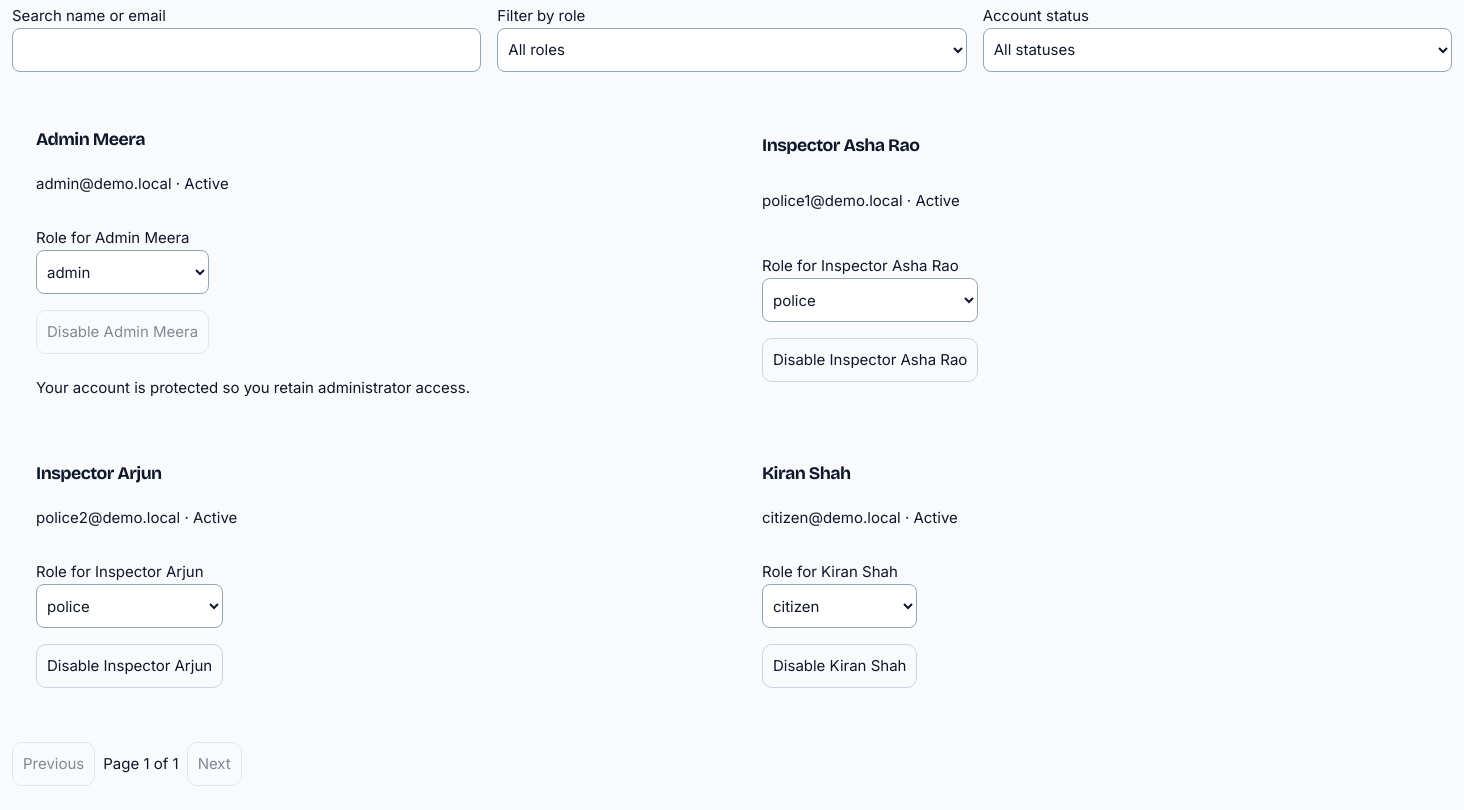
Test case: protects the signed-in administrator and reports a server conflict
(page scrolled)
Expected: the dropdown labelled "Role for Admin Meera" is disabled, [36,250,209,294]
Expected: the button "Disable Admin Meera" is disabled, [36,310,209,354]
Click the button "Disable Inspector Arjun": click(130, 666) [36,644,223,688]
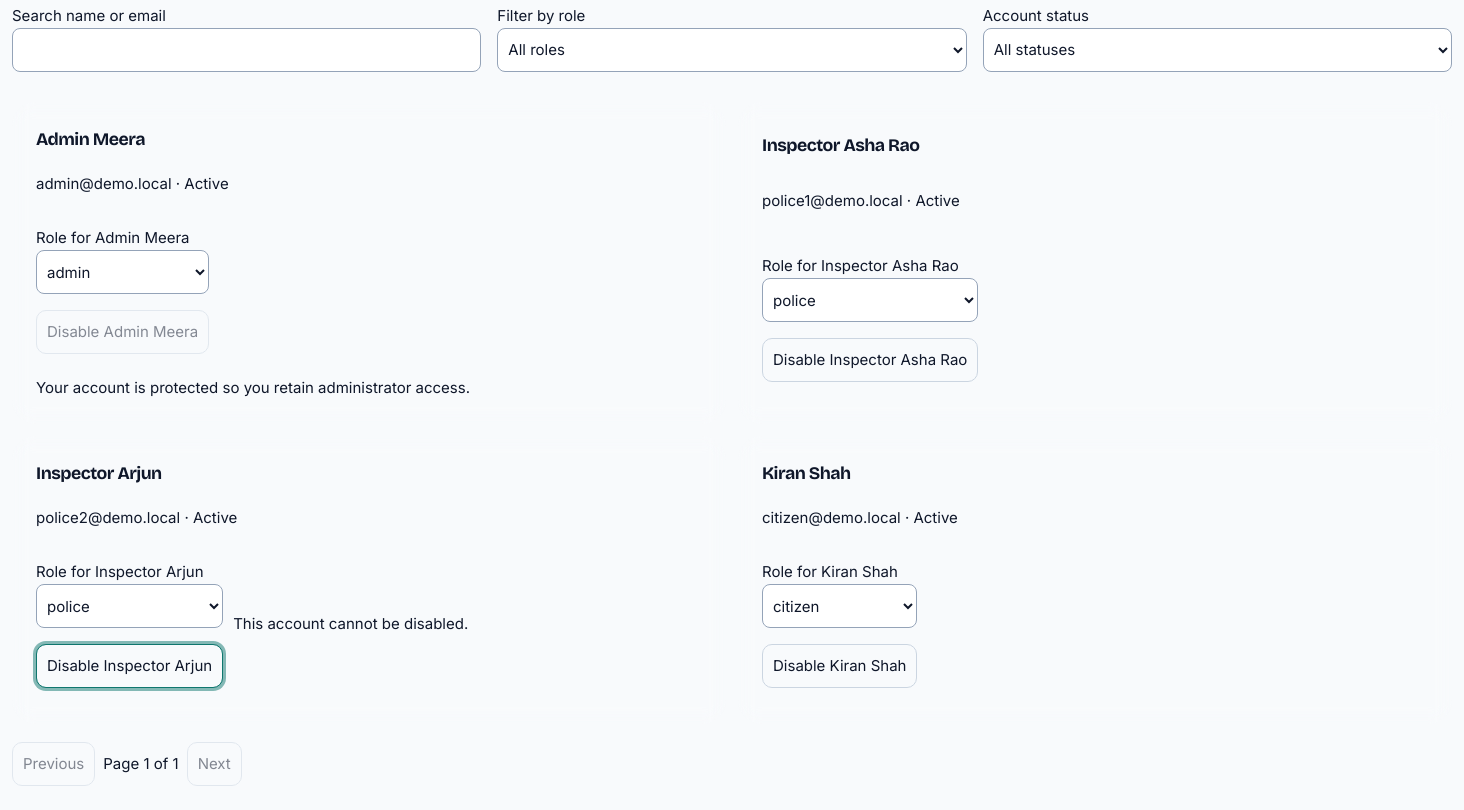
Result: the message reads "This account cannot be disabled." at [233,614,468,633]
